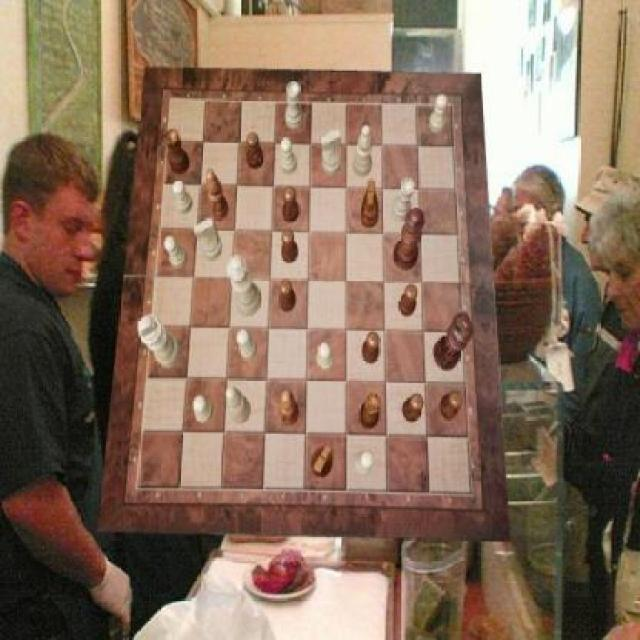bishop: (206, 169, 229, 222), (278, 389, 300, 427)
black-bishop: (434, 312, 474, 371)
black-king: (360, 180, 379, 229), (311, 444, 333, 478)
black-knight: (398, 283, 418, 317), (440, 392, 463, 420), (401, 394, 424, 421), (283, 188, 300, 222), (248, 132, 264, 168), (362, 332, 379, 365), (279, 280, 296, 312), (282, 229, 298, 263)
black-pawn: (394, 208, 426, 272)
black-queen: (166, 129, 191, 175), (358, 392, 381, 430)
black-rook: (352, 125, 372, 177), (226, 386, 251, 424)
white-bishop: (138, 314, 182, 368)
white-king: (194, 218, 223, 261), (322, 131, 342, 176)
white-knight: (165, 237, 188, 271), (428, 94, 447, 134), (237, 329, 258, 362), (174, 179, 194, 213), (280, 137, 297, 175), (194, 397, 214, 425), (317, 342, 335, 372), (354, 451, 374, 476)
white-pawn: (228, 255, 263, 317)
white-queen: (392, 178, 416, 222), (285, 82, 302, 129)
